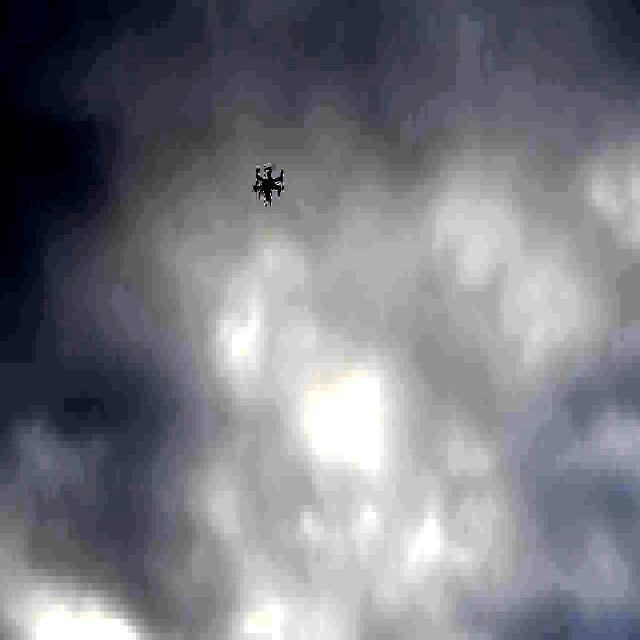drone: (249, 160, 289, 209)
